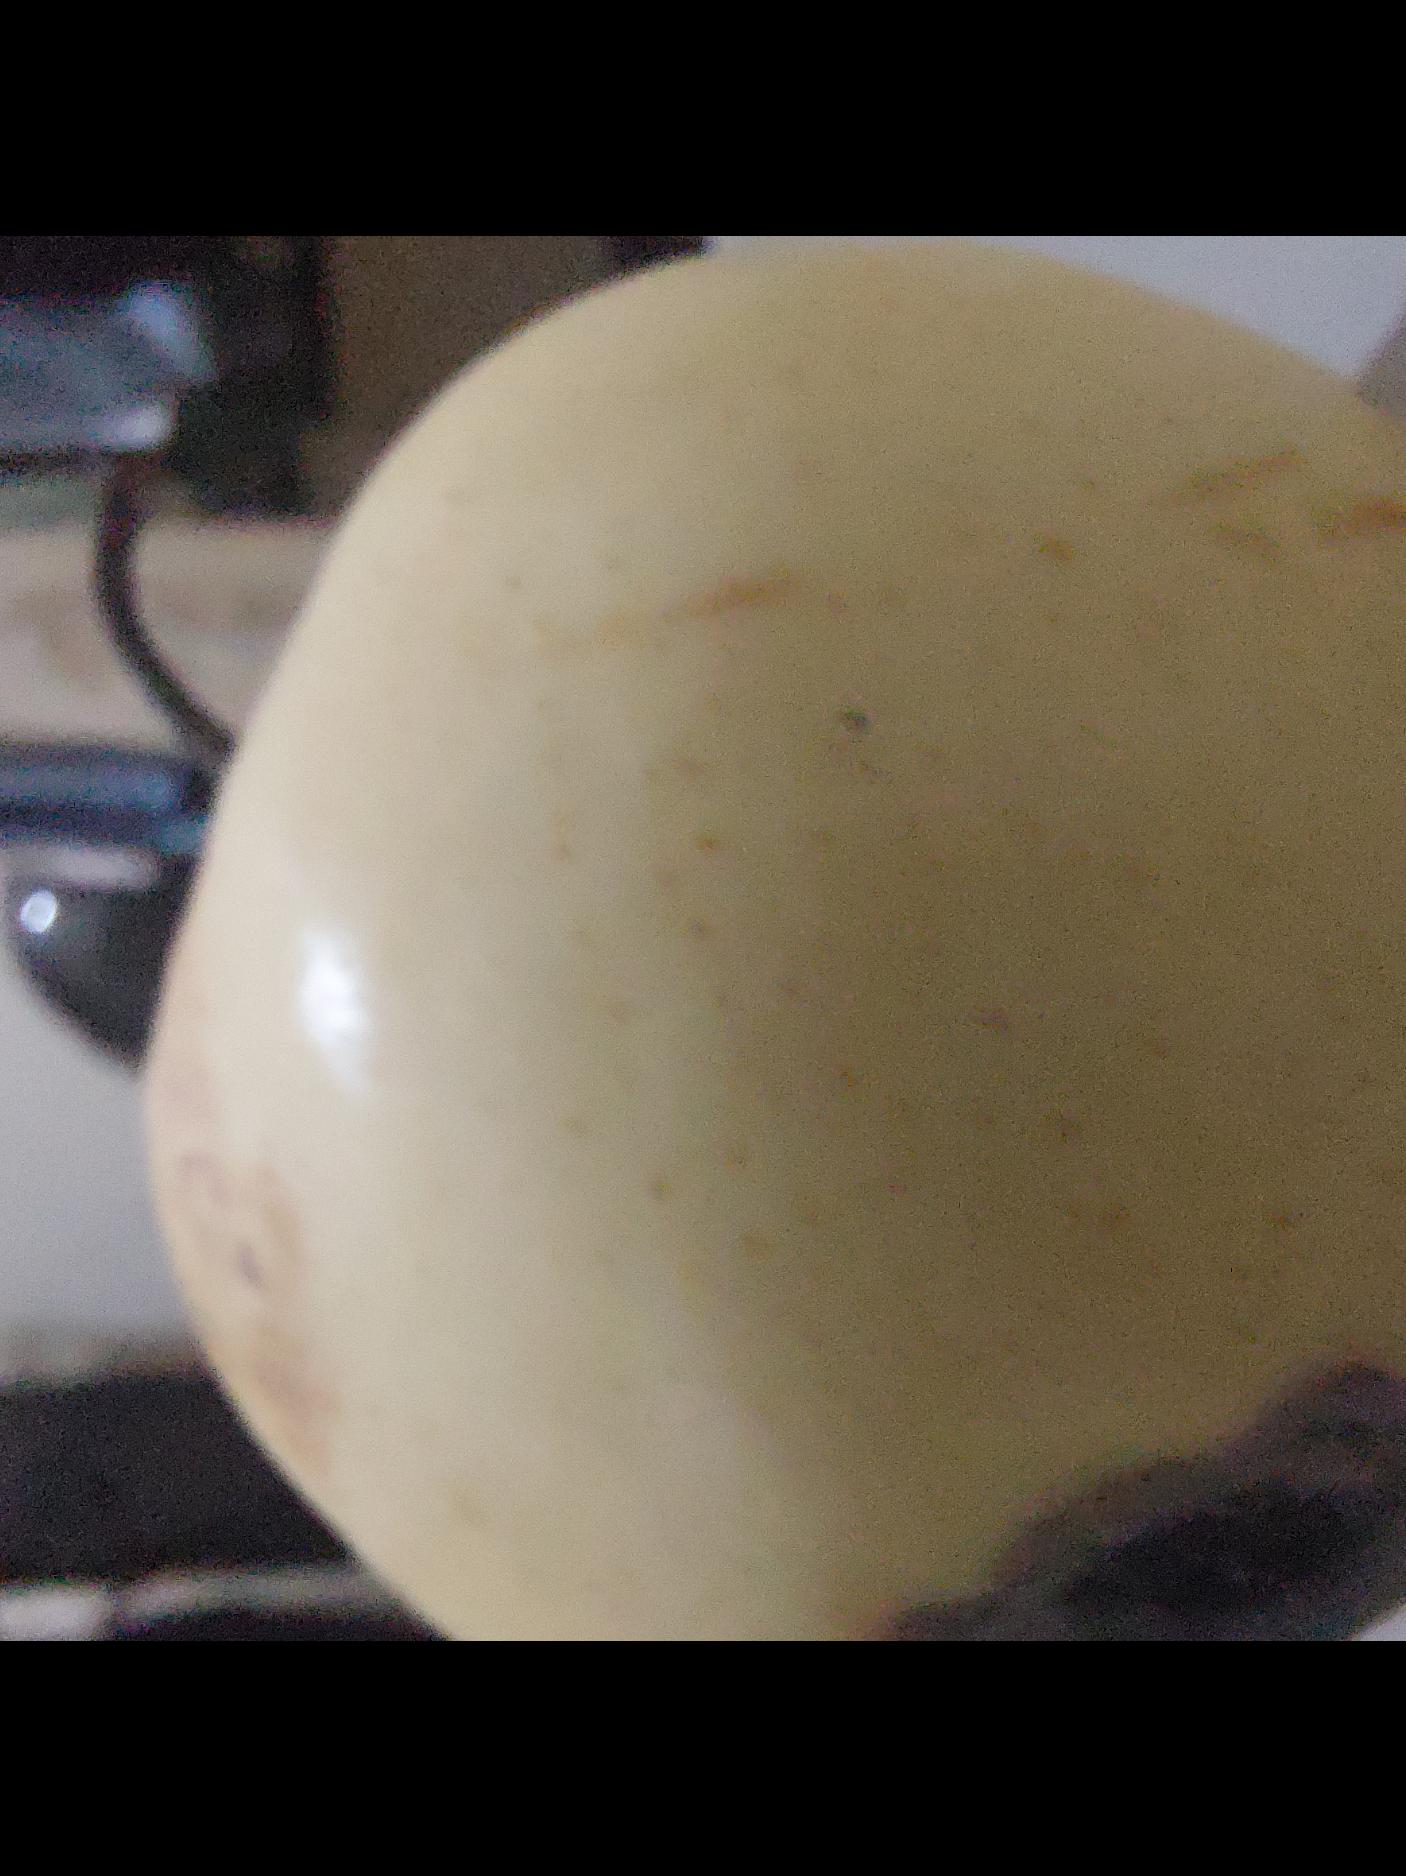Bad Pear: (128, 245, 1406, 1641)
